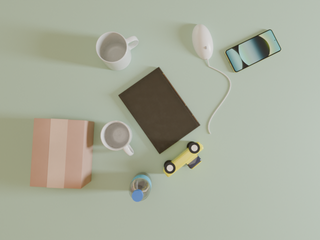book: (118, 67, 200, 154)
bottle: (129, 173, 151, 202)
box: (30, 118, 94, 189)
cup: (96, 32, 138, 70), (101, 121, 134, 156)
mouse: (192, 24, 213, 60)
phone: (225, 29, 281, 73)
toy_car: (163, 141, 203, 177)
